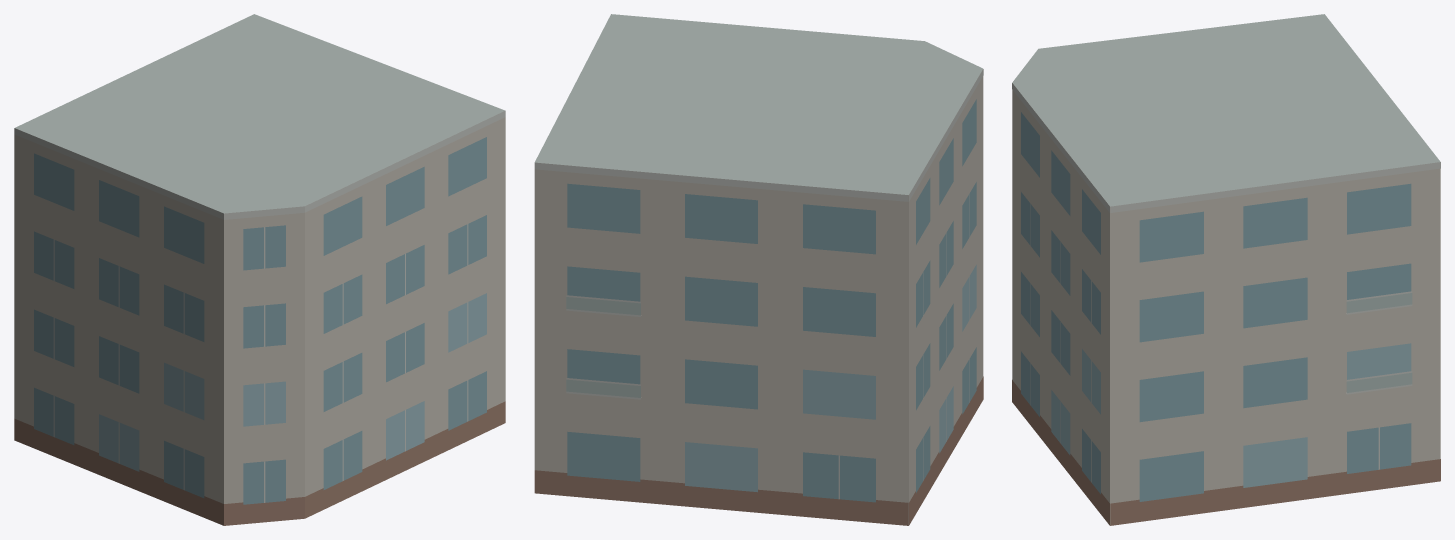
The model's file is survey-upis-32749602.glb.
3 renders of one model, left to right at view 1: azimuth 30°, elevation 25°; view 2: azimuth 150°, elevation 25°; view 3: azimuth 270°, elevation 25°, orthographic. The views are drawn at different scales.
Visible parts, largest first — view 1: survey-upis-32749602.tmp; view 2: survey-upis-32749602.tmp; view 3: survey-upis-32749602.tmp.
Boxes of the visible parts, bbox=[...] form: survey-upis-32749602.tmp: bbox=[14, 14, 505, 525]; survey-upis-32749602.tmp: bbox=[534, 14, 983, 525]; survey-upis-32749602.tmp: bbox=[1012, 14, 1440, 525].
Size of the model in its own units: 15.39 by 11.89 by 14.48.
